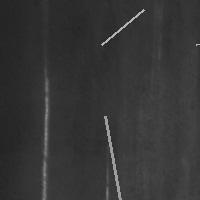scratches: (100, 111, 127, 200), (96, 5, 148, 50), (39, 67, 52, 199), (191, 35, 200, 49)
